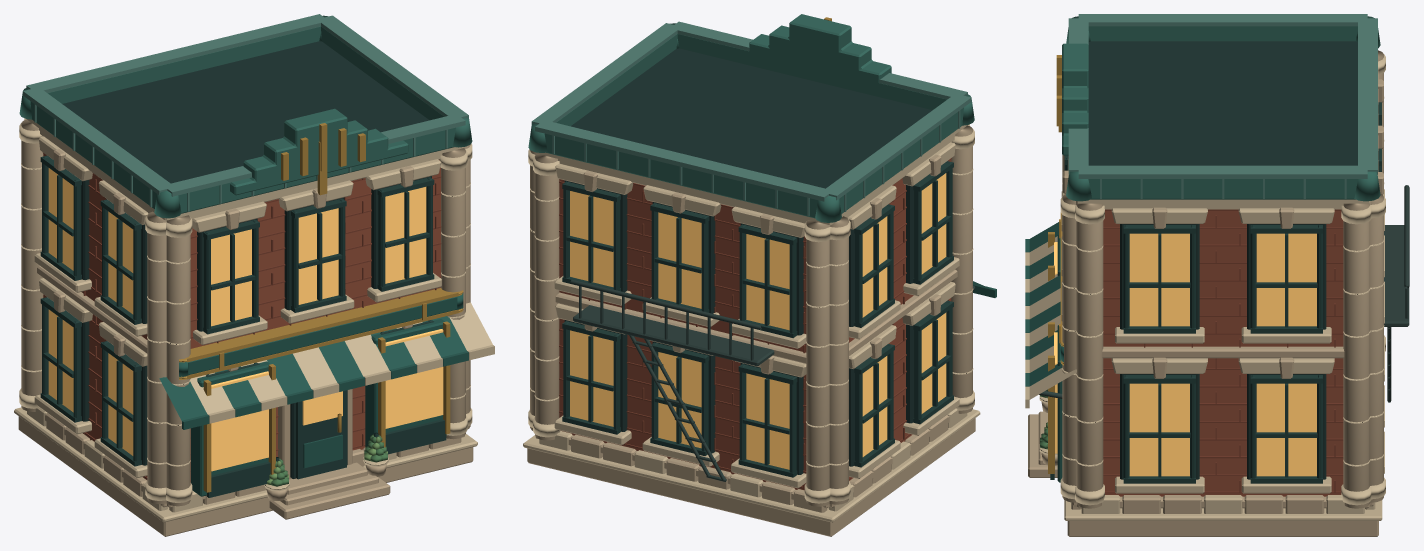
The picture shows the model from 3 angles, left to right: view 1: azimuth 30°, elevation 25°; view 2: azimuth 150°, elevation 25°; view 3: azimuth 270°, elevation 25°; orthographic projection. The views are drawn at different scales.
Parts seen in each view (by area): view 1: expansion_shop_2_geometry; view 2: expansion_shop_2_geometry; view 3: expansion_shop_2_geometry.
Part boxes in pixels (box(x1,y1,x2,y2)): expansion_shop_2_geometry: box(14, 14, 494, 536); expansion_shop_2_geometry: box(523, 14, 996, 536); expansion_shop_2_geometry: box(1025, 14, 1409, 536).
Bounding box in the file's own units: 0.99 × 1.11 × 0.9618.
